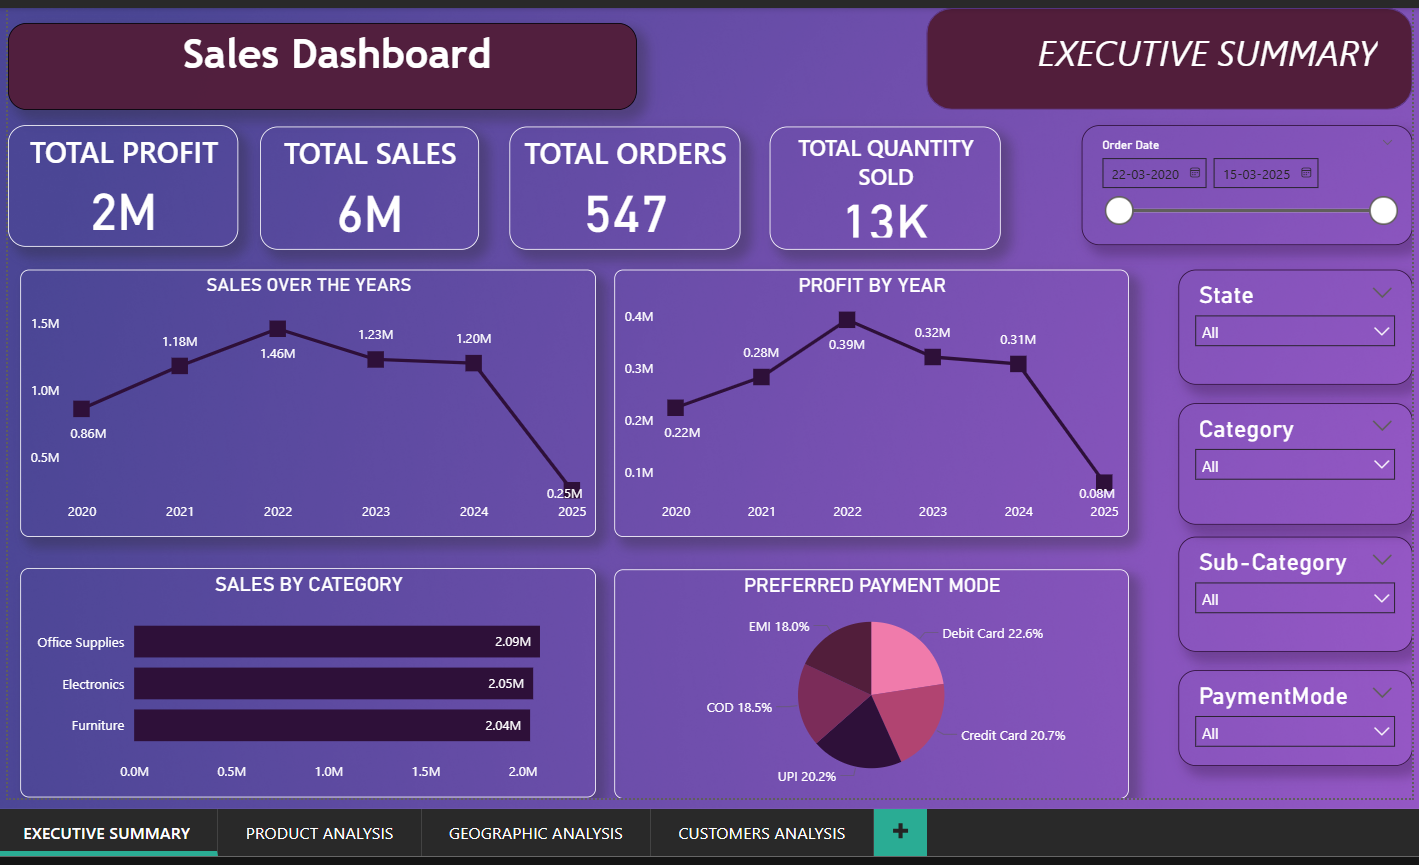

Layout of this report page (visuals, bound fields, positions):
{"tool":"powerbi","page":{"name":"EXECUTIVE SUMMARY","canvas":[1280,720],"ordinal":0},"visuals":[{"type":"textbox","box":[0,13.4,573.2,79],"z":0},{"type":"card","title":"TOTAL PROFIT","fields":{"Values":["Sum(Sales Dataset.Profit)"]},"box":[0,107.1,210.3,111.2],"z":1000},{"type":"card","title":"TOTAL SALES","fields":{"Values":["Sales Dataset.TOTAL SALES"]},"box":[230,108.1,199.5,112.2],"z":2000},{"type":"card","title":"TOTAL ORDERS","fields":{"Values":["Sales Dataset.TOTAL ORDERS"]},"box":[457.2,108.1,210.6,112.2],"z":3000},{"type":"lineChart","title":" SALES OVER THE YEARS","fields":{"Y":["Sum(Sales Dataset.Amount)"],"Category":["Sales Dataset.Order Date.Variation.Date Hierarchy.Year"]},"box":[10.7,238.4,525,243.8],"z":5000},{"type":"lineChart","title":" PROFIT BY YEAR","fields":{"Y":["Sum(Sales Dataset.Profit)"],"Category":["Sales Dataset.Order Date.Variation.Date Hierarchy.Year"]},"box":[553.1,238.4,468.8,243.8],"z":6000},{"type":"clusteredBarChart","title":"SALES BY CATEGORY","fields":{"Category":["Sales Dataset.Category"],"Y":["Sum(Sales Dataset.Amount)"]},"box":[10.7,510.3,525,208.9],"z":6001},{"type":"pieChart","title":"PREFERRED PAYMENT MODE","fields":{"Category":["Sales Dataset.PaymentMode"],"Y":["Sales Dataset.TOTAL SALES"]},"box":[553.1,511.6,468.8,208.9],"z":6002},{"type":"slicer","fields":{"Values":["Sales Dataset.Order Date"]},"box":[978.1,106.7,302,109.4],"z":6003},{"type":"slicer","fields":{"Values":["Sales Dataset.Category"]},"box":[1066.7,360.2,213.3,110.8],"z":6004},{"type":"slicer","fields":{"Values":["Sales Dataset.Sub-Category"]},"box":[1066.7,482.1,213.3,105.3],"z":6005},{"type":"slicer","fields":{"Values":["Sales Dataset.State"]},"box":[1066.7,238.3,213.3,105.3],"z":6006},{"type":"slicer","fields":{"Values":["Sales Dataset.PaymentMode"]},"box":[1066.7,604,213.3,87.3],"z":6007},{"type":"shape","box":[836.8,0,443.3,92.8],"z":6008},{"type":"textbox","box":[786.2,13.2,467.4,54.5],"z":6009},{"type":"card","title":"TOTAL QUANTITY SOLD","fields":{"Values":["Sales Dataset.TOTAL QUANTITY"]},"box":[694.1,108.1,210.6,112.2],"z":6010}]}

Visuals, with their boxes on the page's 1280x720 design canvas (x1, y1, x2, y2). These are canvas units, not pixel positions in the 1419x865 screenshot, which may show the page scaled, cropped or inside an application window:
textbox: left=0, top=13, right=573, bottom=92
"TOTAL PROFIT" card: left=0, top=107, right=210, bottom=218
"TOTAL SALES" card: left=230, top=108, right=430, bottom=220
"TOTAL ORDERS" card: left=457, top=108, right=668, bottom=220
" SALES OVER THE YEARS" lineChart: left=11, top=238, right=536, bottom=482
" PROFIT BY YEAR" lineChart: left=553, top=238, right=1022, bottom=482
"SALES BY CATEGORY" clusteredBarChart: left=11, top=510, right=536, bottom=719
"PREFERRED PAYMENT MODE" pieChart: left=553, top=512, right=1022, bottom=720
slicer - Sales Dataset.Order Date: left=978, top=107, right=1280, bottom=216
slicer - Sales Dataset.Category: left=1067, top=360, right=1280, bottom=471
slicer - Sales Dataset.Sub-Category: left=1067, top=482, right=1280, bottom=587
slicer - Sales Dataset.State: left=1067, top=238, right=1280, bottom=344
slicer - Sales Dataset.PaymentMode: left=1067, top=604, right=1280, bottom=691
shape: left=837, top=0, right=1280, bottom=93
textbox: left=786, top=13, right=1254, bottom=68
"TOTAL QUANTITY SOLD" card: left=694, top=108, right=905, bottom=220
